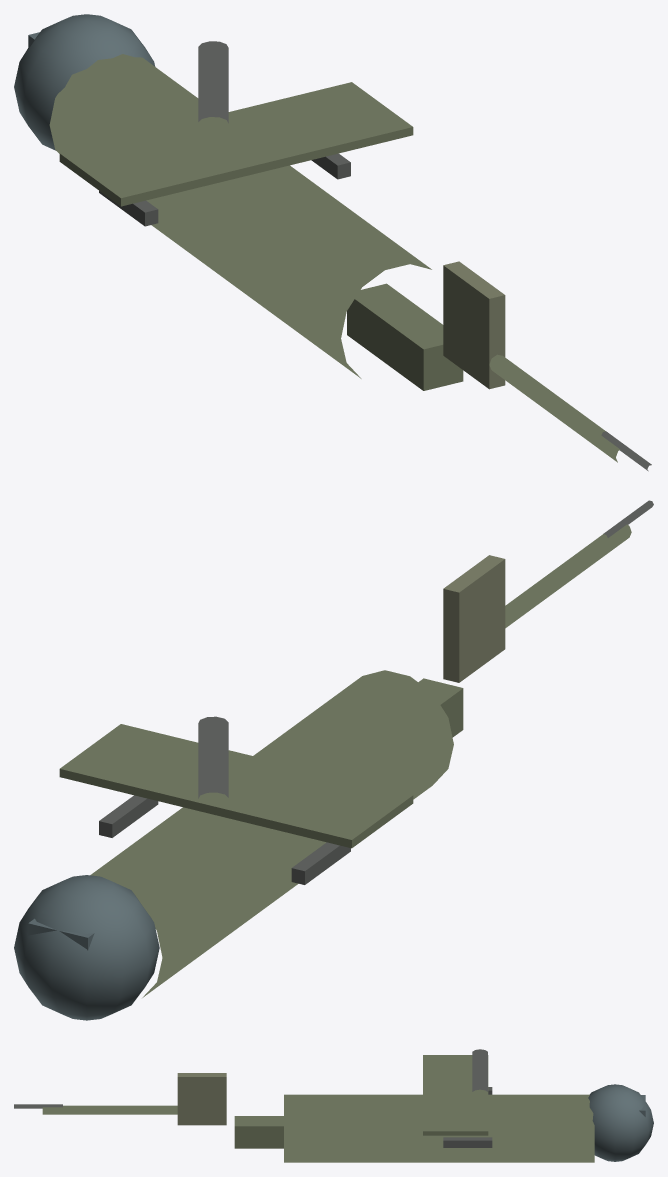
The picture shows the model from 3 angles, top to bottom: view 1: azimuth 30°, elevation 25°; view 2: azimuth 150°, elevation 25°; view 3: azimuth 270°, elevation 25°; orthographic projection. The views are drawn at different scales.
Visible parts, largest first — view 1: body; view 2: body; view 3: body.
Part boxes in pixels (box(x1,y1,x2,y2)): body: box(14, 14, 651, 471); body: box(14, 500, 653, 1020); body: box(14, 1049, 653, 1162).
Bounding box in the file's own units: 4.4 × 2.88 × 15.65.
